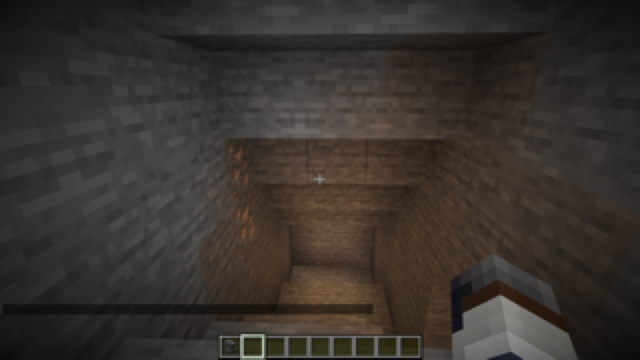iron: (220, 139, 260, 251)
